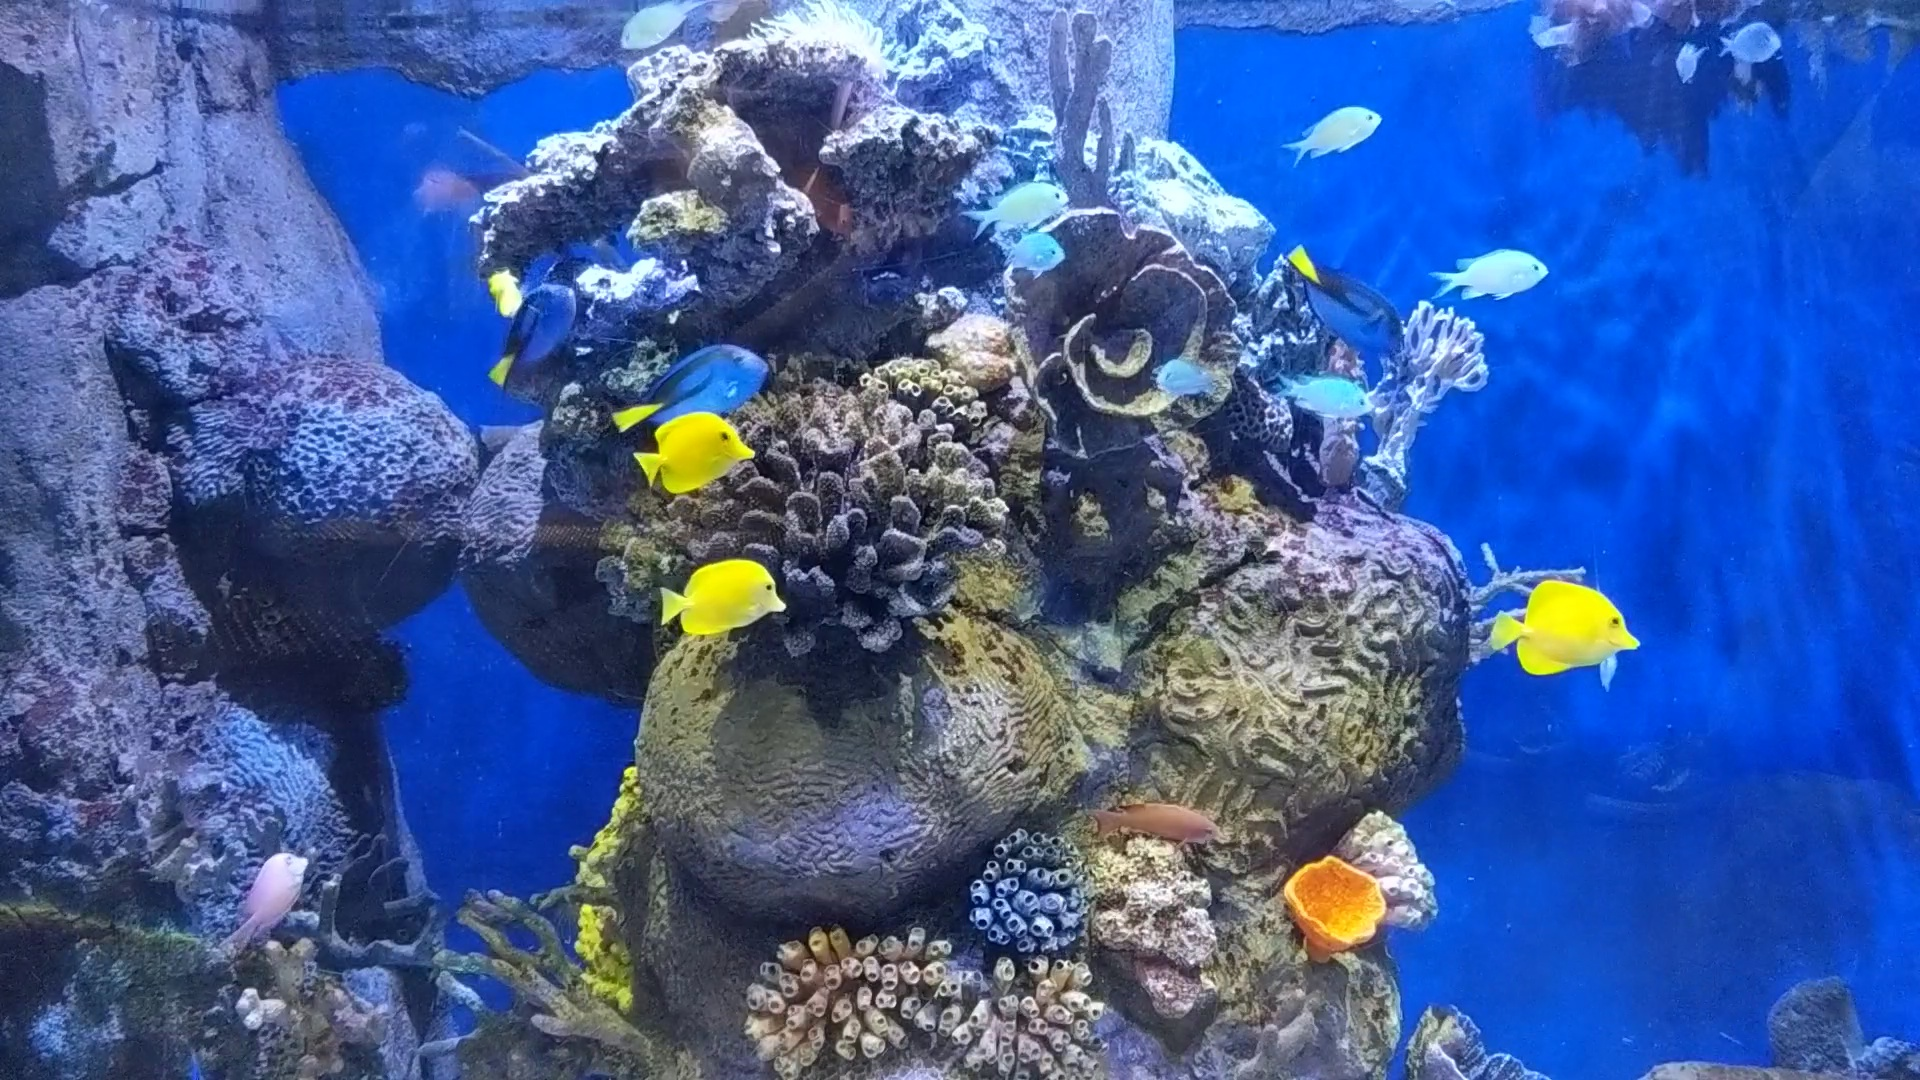blue tang surgeonfish: (611, 338, 771, 438), (481, 282, 588, 396)
damselfish: (1425, 247, 1564, 313), (1269, 360, 1386, 433), (960, 178, 1073, 235), (1284, 100, 1387, 158), (607, 0, 708, 53), (1717, 12, 1789, 74), (1150, 356, 1222, 415), (1002, 235, 1079, 277), (1668, 26, 1706, 95)
saddle butterfly fish: (1484, 572, 1644, 683), (632, 407, 762, 496), (650, 558, 785, 634), (465, 247, 534, 328)
